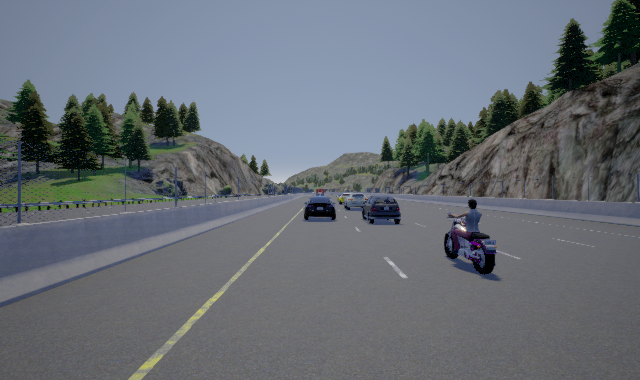motobike: (444, 197, 496, 275)
vehicle: (337, 192, 402, 223), (304, 189, 336, 220)
